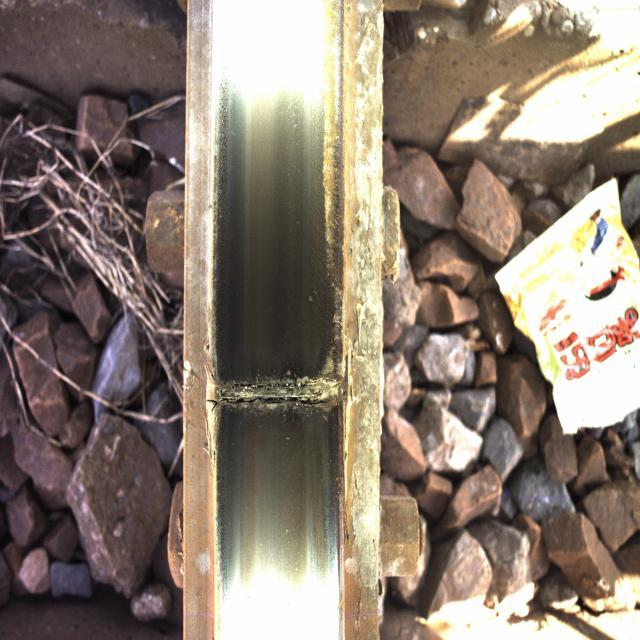spalling: (192, 326, 378, 450)
